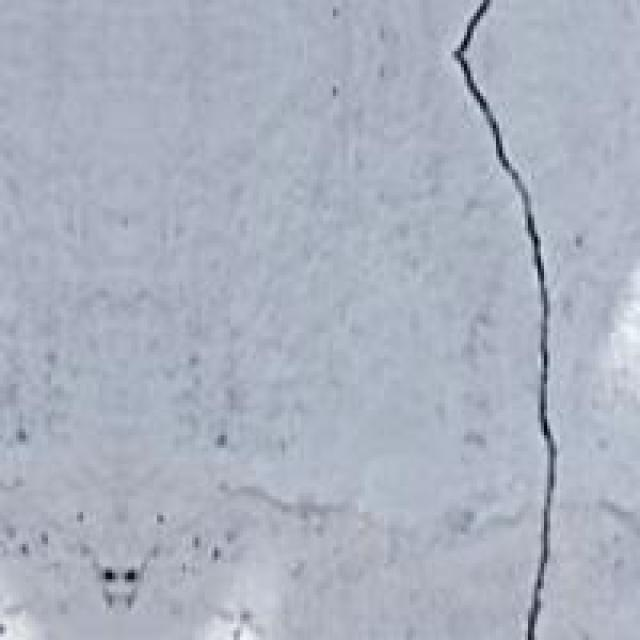Crack: (413, 0, 605, 637)
